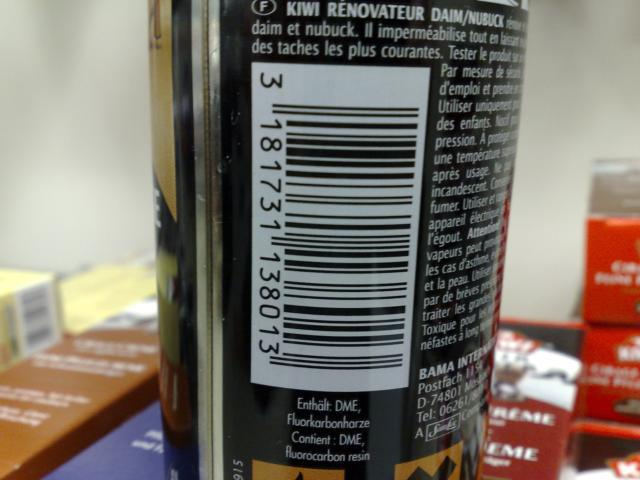Barkod: (276, 98, 416, 369)
